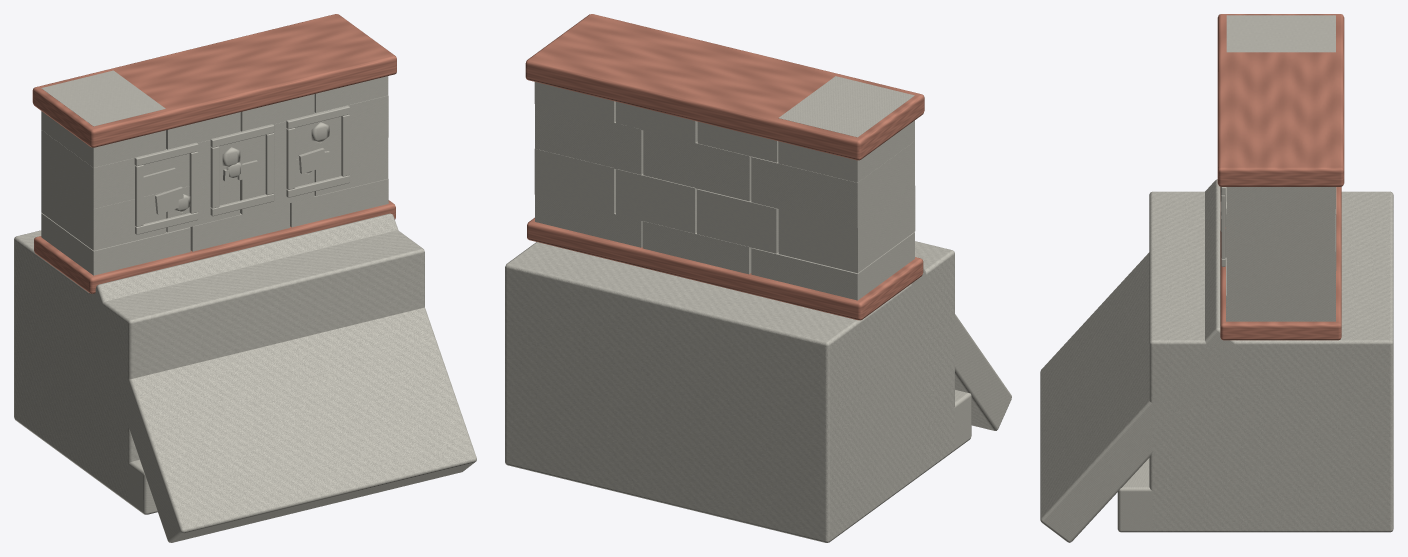
The model's file is jungle-temple-and-stone-city-ball-court-sloped-wall-c3a3d8d9__36106.glb.
3 views of the same model, side by side, from view 1: azimuth 30°, elevation 25°; view 2: azimuth 150°, elevation 25°; view 3: azimuth 270°, elevation 25° (orthographic). The views are drawn at different scales.
Visible parts, largest first — view 1: ball-court-sloped-wall; view 2: ball-court-sloped-wall; view 3: ball-court-sloped-wall.
Boxes of the visible parts, <box> form: ball-court-sloped-wall: <box>14,14,476,542</box>; ball-court-sloped-wall: <box>505,14,1011,542</box>; ball-court-sloped-wall: <box>1040,14,1393,542</box>.
Bounding box in the file's own units: 3.1 × 3.5 × 2.96.
Materials: 2 (2 with a texture image).
